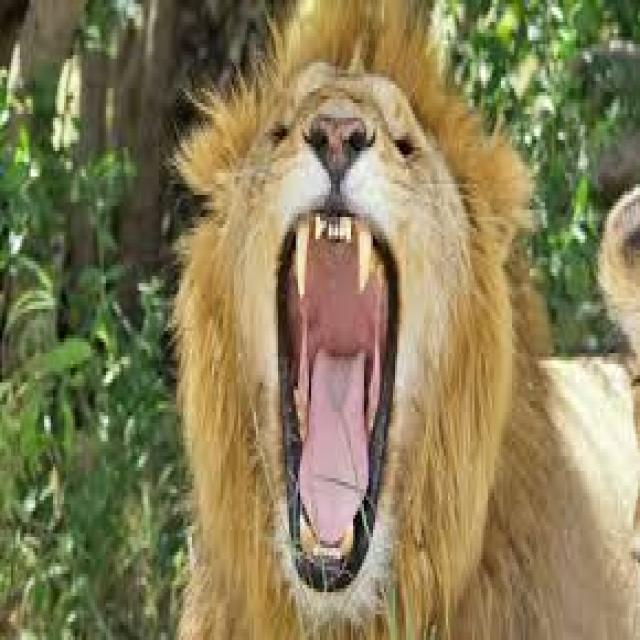Lion: (157, 2, 638, 636)
